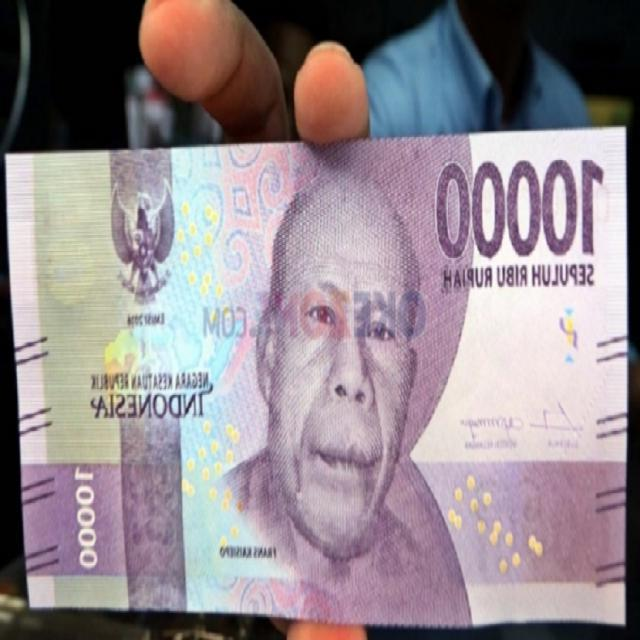sepuluh ribu rupiah: (18, 115, 627, 620)
